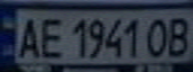1: (121, 15, 145, 58), (66, 15, 90, 58)
4: (103, 15, 127, 58)
9: (84, 16, 109, 60)
A: (12, 13, 45, 60)
B: (163, 14, 193, 57)
E: (33, 13, 66, 60)
O: (142, 15, 172, 58)
